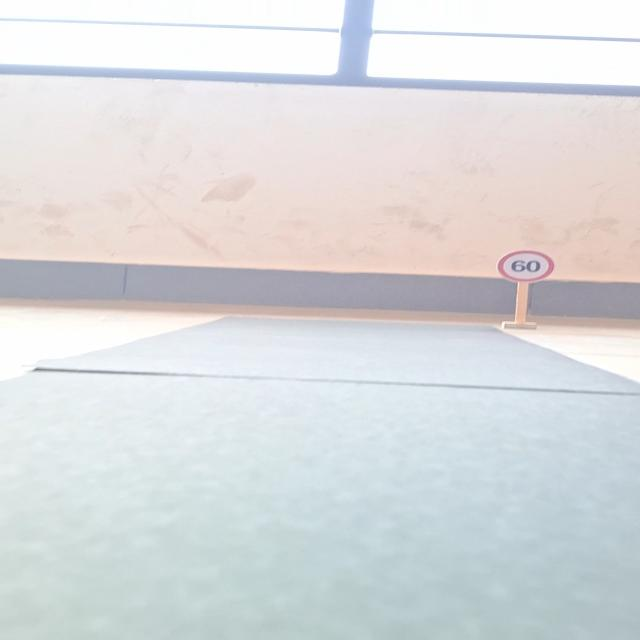Speed60: (494, 249, 556, 284)
